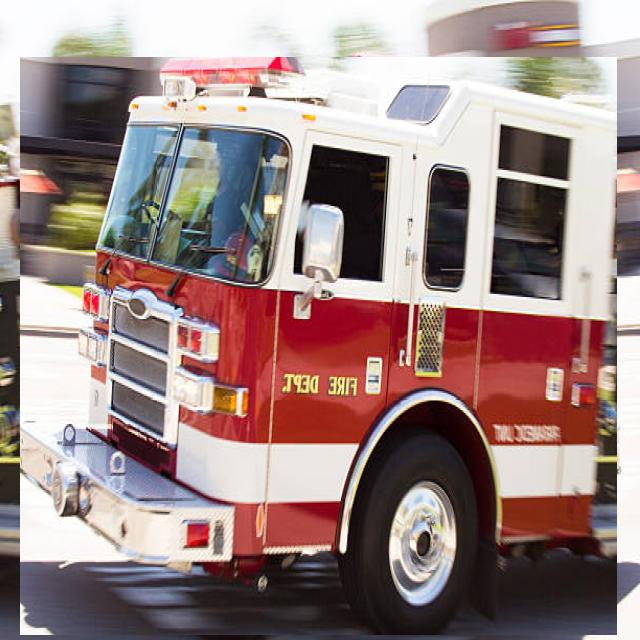emergency: (21, 58, 617, 635)
